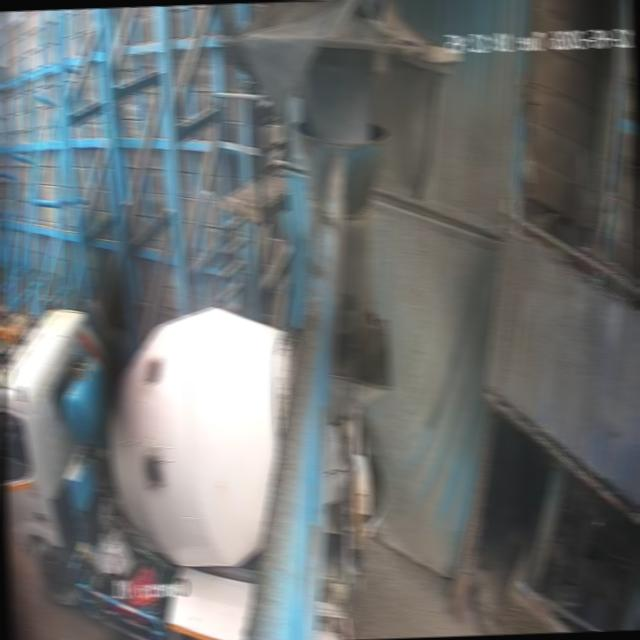cement_mixer_truck: (0, 290, 401, 640)
swing_chute: (297, 124, 386, 330)
